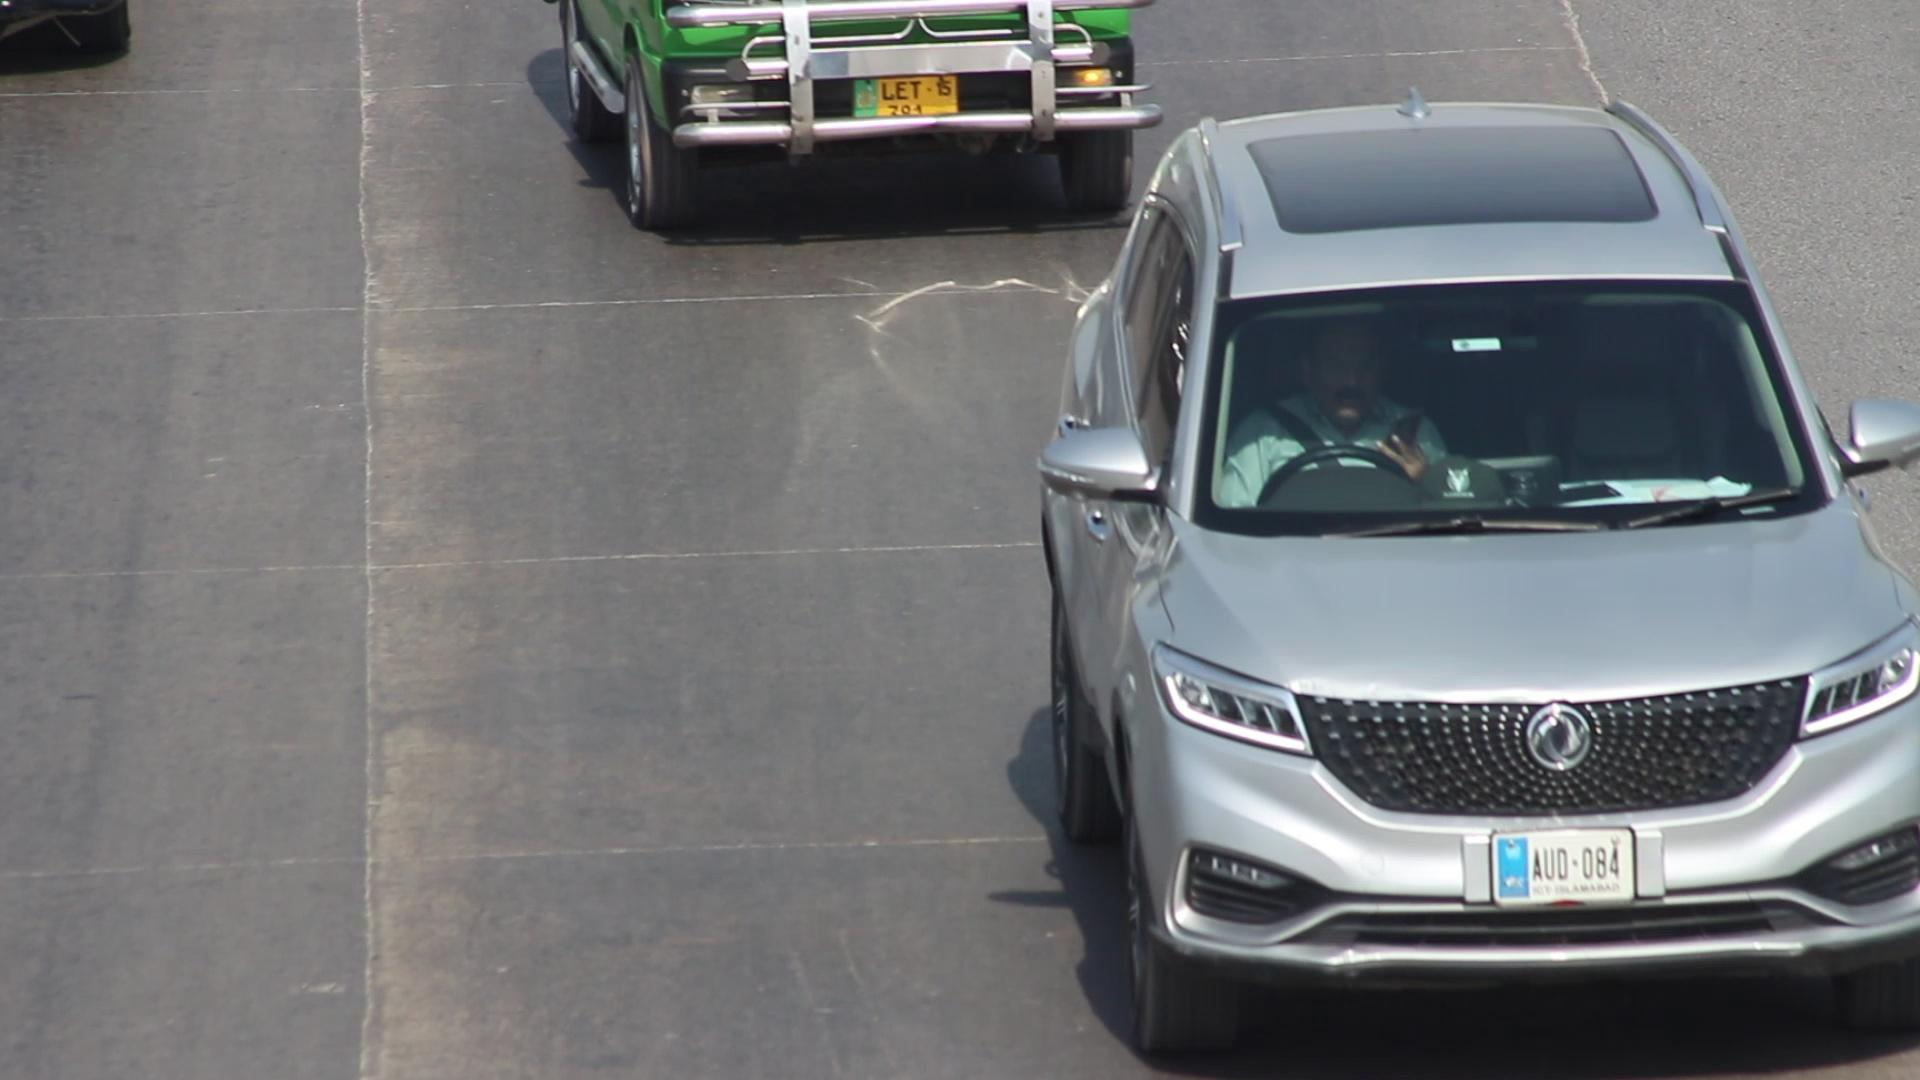windshield: (1193, 266, 1826, 533)
